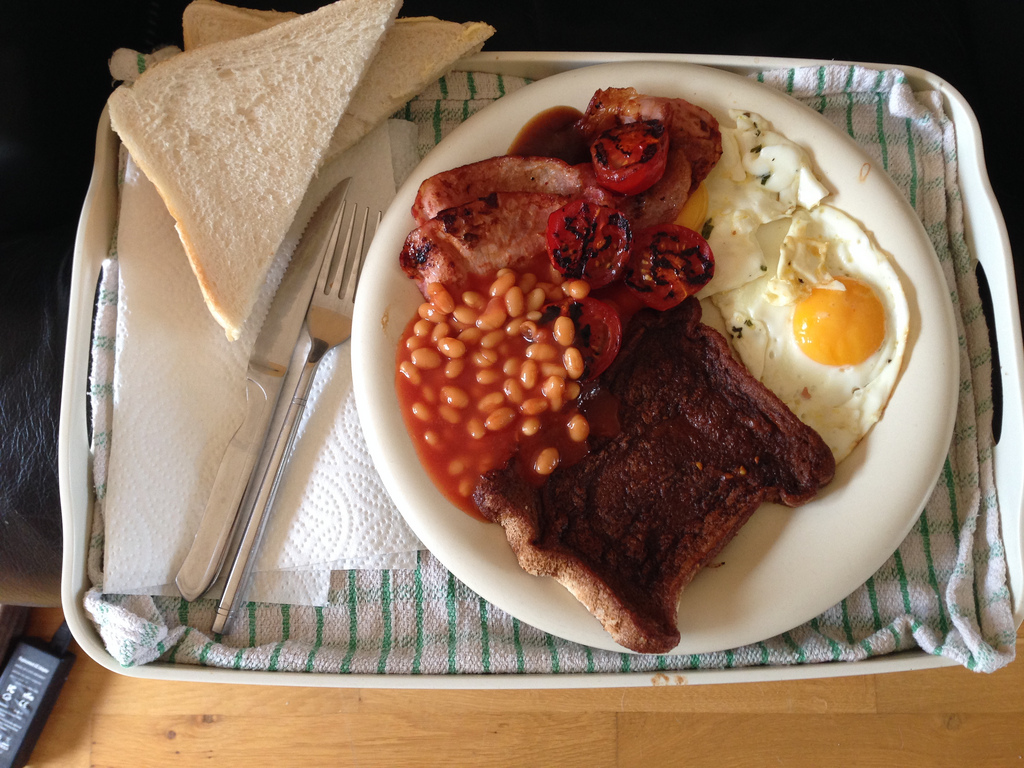boiled peas: (424, 309, 519, 407)
fried egg: (732, 220, 906, 422)
slice of bread: (550, 373, 709, 632), (127, 35, 329, 238)
